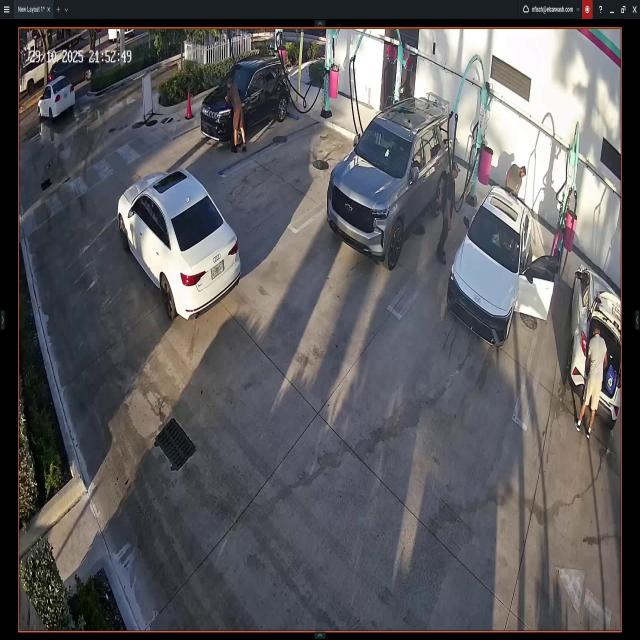Car: (327, 95, 452, 270), (116, 165, 242, 319), (451, 183, 555, 347), (202, 54, 290, 148), (572, 266, 620, 416), (35, 78, 78, 125)
